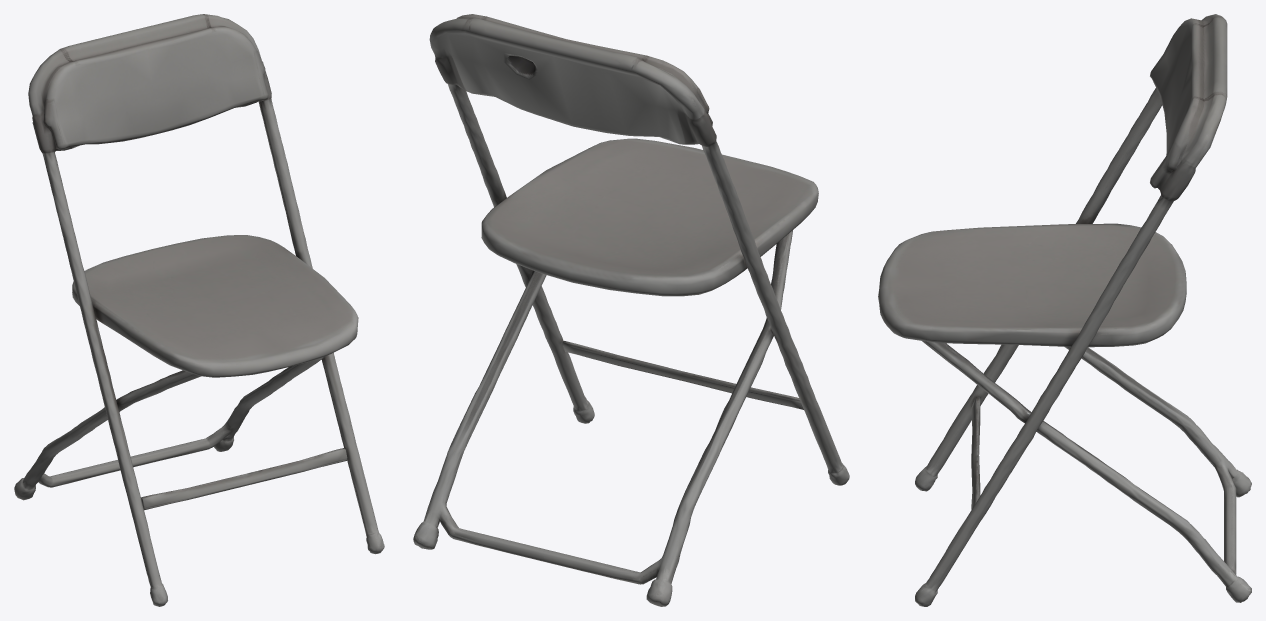
The model's file is Chair_Folding_Charco_0320031940_texture.glb.
The picture shows the model from 3 angles, left to right: view 1: azimuth 30°, elevation 25°; view 2: azimuth 150°, elevation 25°; view 3: azimuth 270°, elevation 25°; orthographic projection. The views are drawn at different scales.
Visible parts, largest first — view 1: Mesh_0.003; view 2: Mesh_0.003; view 3: Mesh_0.003.
Part boxes in pixels (x1,y1,x2,y2): Mesh_0.003: (14,14,384,606); Mesh_0.003: (413,14,849,606); Mesh_0.003: (878,14,1251,606).
Bounding box in the file's own units: 0.4901 × 0.9144 × 0.6252.
1 material, 1 textured.
